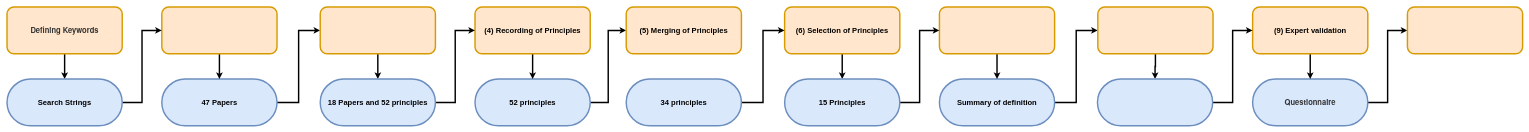
The diagram is 1529 pixels wide and 132 high, and some of its shapes have lost their labels. The centre of each missing label's shape, as x and y in pixels:
(10) Final List of Principles: [1465,30]
(2) Searching ACM, ArXiv, IEEE Xplore, Scopus, Google Scholar: [219,30]
(3) Screeening Papers: [377,30]
(7) Defining Principles: [997,30]
(8) Categorization: [1155,30]
5 Groups: [1155,102]
